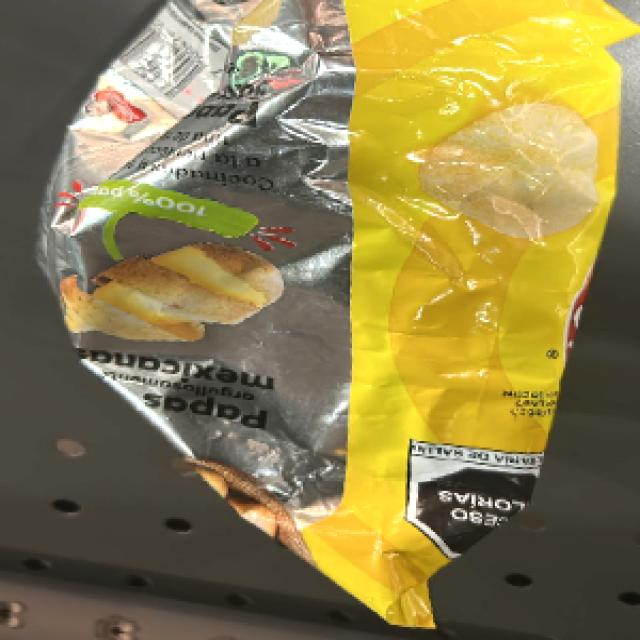productoAtras: (60, 52, 346, 479)
